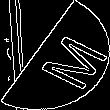M_NW: (13, 22, 97, 88)
